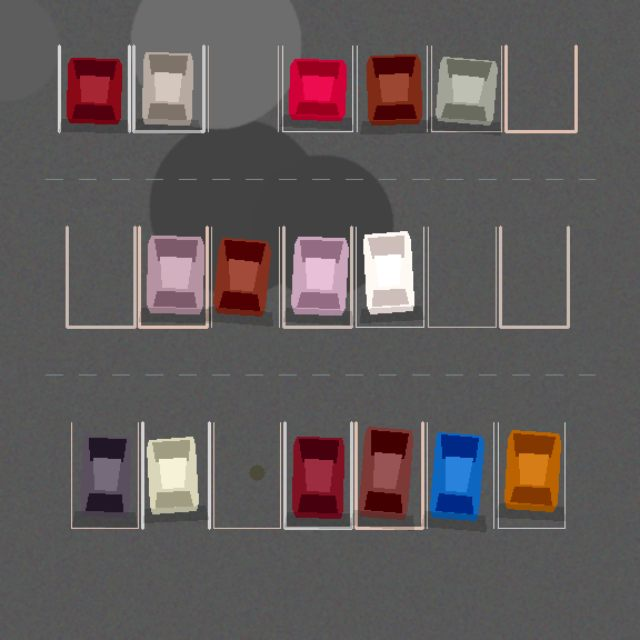space-empty: (213, 422, 280, 528), (428, 227, 496, 327), (500, 227, 568, 327), (67, 227, 134, 327), (208, 46, 278, 131), (506, 46, 576, 131)
space-occupied: (71, 422, 138, 528), (142, 422, 209, 528), (284, 422, 351, 528), (356, 422, 422, 528), (427, 422, 493, 528), (498, 422, 564, 528), (139, 227, 207, 327), (211, 227, 279, 327), (283, 227, 351, 327), (356, 227, 423, 327), (59, 46, 129, 131), (133, 46, 203, 131), (282, 46, 352, 131), (357, 46, 427, 131), (431, 46, 501, 131)
